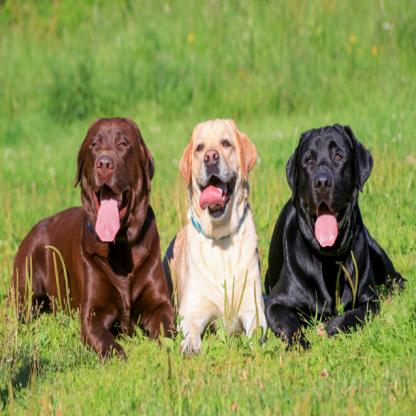Labarador Retriever: (13, 118, 177, 360), (268, 124, 403, 343), (166, 117, 266, 356)
